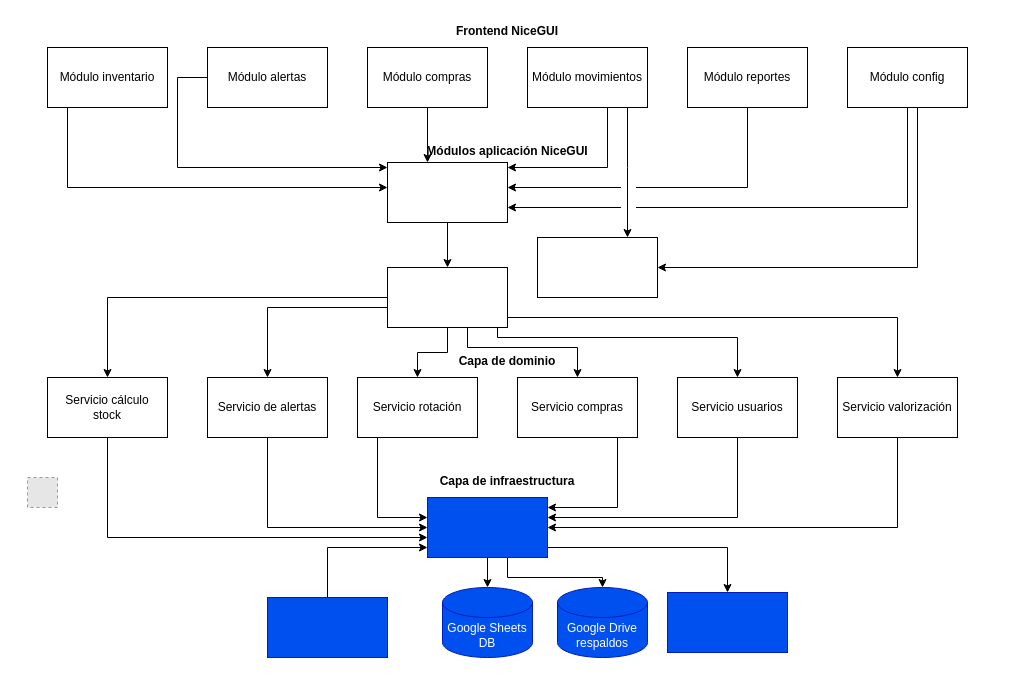
The diagram is 1014 pixels wide and 684 high, and some of its shapes have lost their labels. Grey dashed boxes stand in for pictures. Here are the shapes that lost their labels. From the top down, the centre of each, then its label:
(447,192): Navegación y sesión
(597,267): Validación de formularios
(447,297): Orquestador de usos
(487,527): Googe Apps Script API
(327,627): Tasks programadas (triggers diarios)
(727,622): Gmail Service Notificaciones
